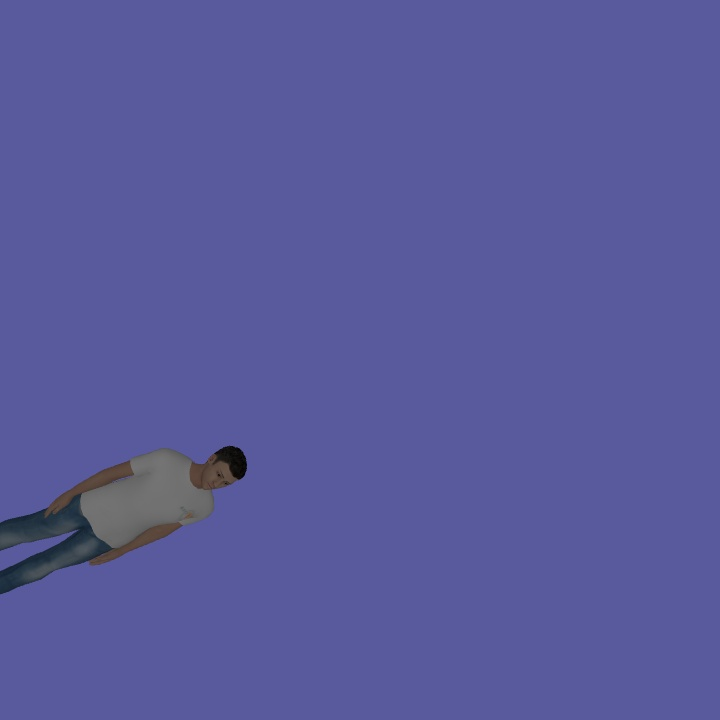victim: (1, 440, 248, 592)
